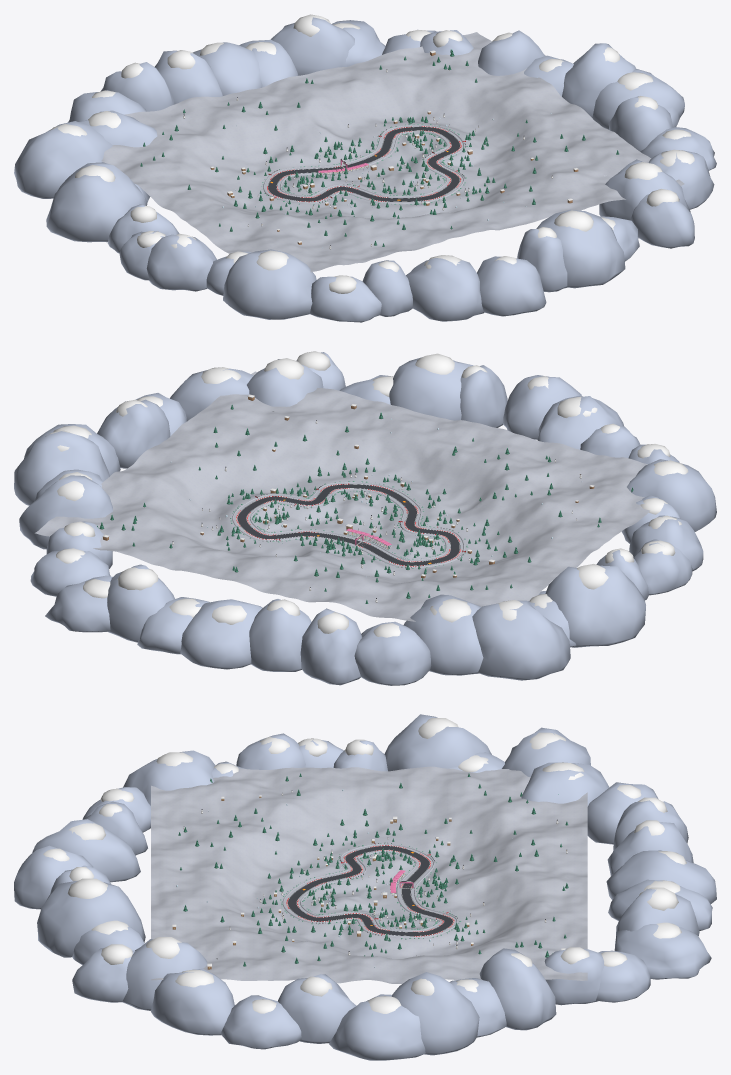
Rendered from nevado.glb.
3 views of the same model, one above another, from view 1: azimuth 30°, elevation 25°; view 2: azimuth 150°, elevation 25°; view 3: azimuth 270°, elevation 25° (orthographic). The views are drawn at different scales.
Parts seen in each view (by area): view 1: Ground, C_8c9ec6, White, C_1e724c, Road, Ground.001, Curb; view 2: Ground, C_8c9ec6, White, C_1e724c, Road, Ground.001, Curb; view 3: Ground, C_8c9ec6, White, C_1e724c, Road, Ground.001, Curb.
Boxes of the visible parts, box(x1,y1,x2,y2) form: Ground: box(101, 32, 684, 272); C_8c9ec6: box(14, 17, 716, 322); White: box(50, 14, 694, 293); C_1e724c: box(140, 49, 618, 246); Road: box(268, 126, 460, 201); Ground.001: box(263, 124, 464, 203); Curb: box(267, 126, 461, 202); Ground: box(35, 371, 649, 621); C_8c9ec6: box(14, 352, 716, 685); White: box(45, 351, 688, 637); C_1e724c: box(97, 404, 633, 607); Road: box(237, 484, 460, 565); Ground.001: box(232, 482, 465, 568); Curb: box(236, 483, 461, 566); Ground: box(151, 766, 587, 983); C_8c9ec6: box(14, 714, 716, 1060); White: box(43, 718, 686, 1013); C_1e724c: box(178, 773, 568, 966); Road: box(287, 845, 453, 936); Ground.001: box(282, 843, 458, 938); Curb: box(286, 845, 454, 936).
Size of the model in its own units: 978 by 89.28 by 946.
32 materials, 6 textured.
